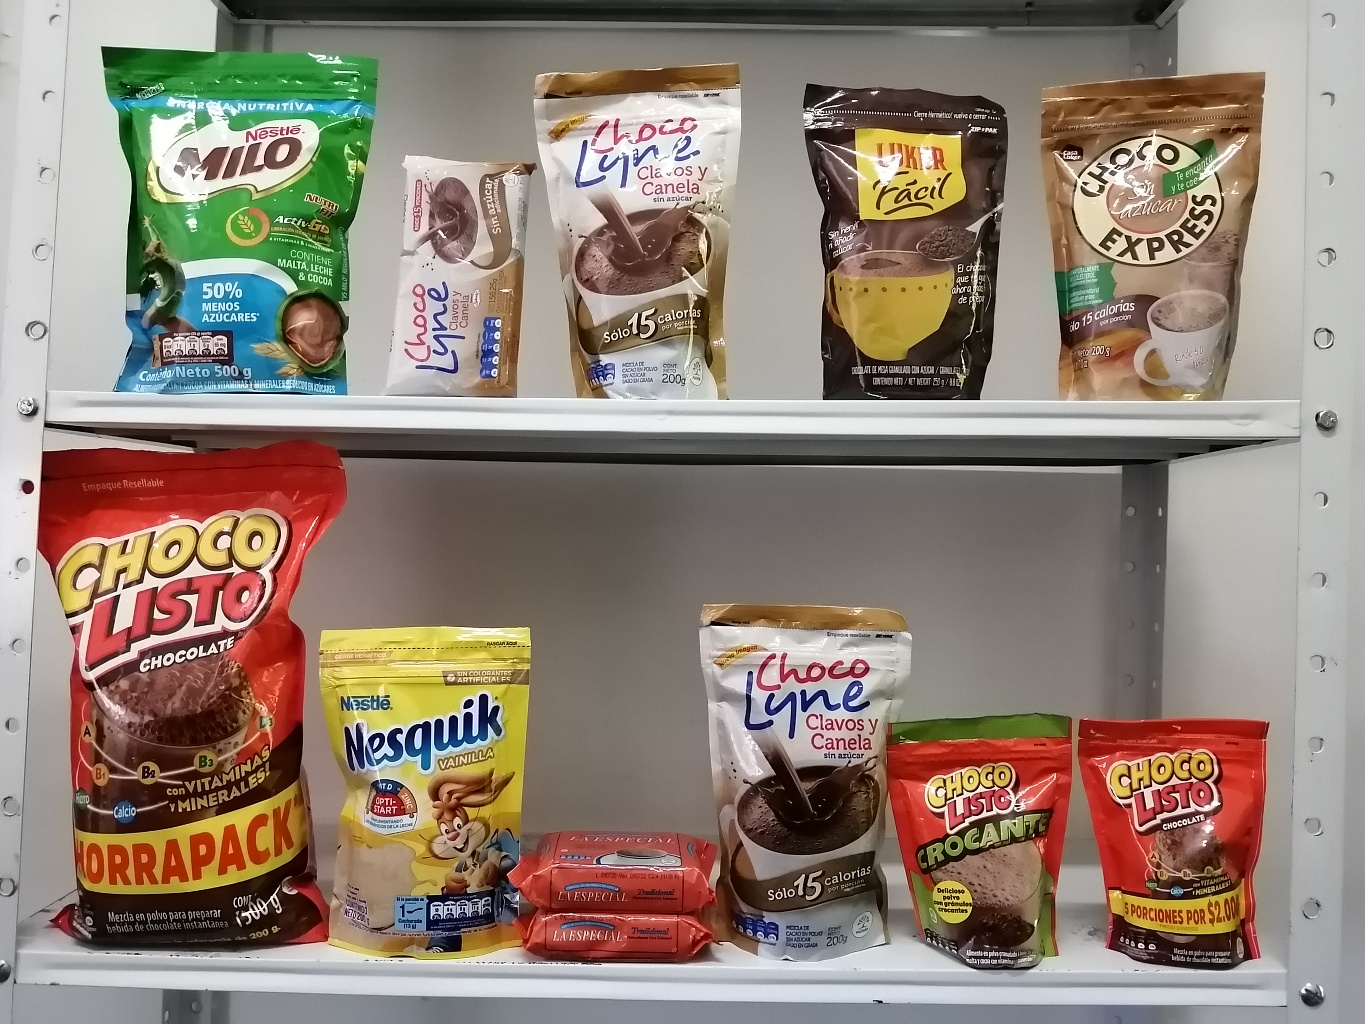COL0170102DYP10000: (882, 703, 1073, 964)
COL0170103DYP1,500: (22, 424, 351, 961)
COL0170103DYP10000: (1076, 709, 1284, 968)
COL0170205DYP50000: (84, 24, 370, 393)
COL0170306DYP20000: (311, 603, 530, 961)
